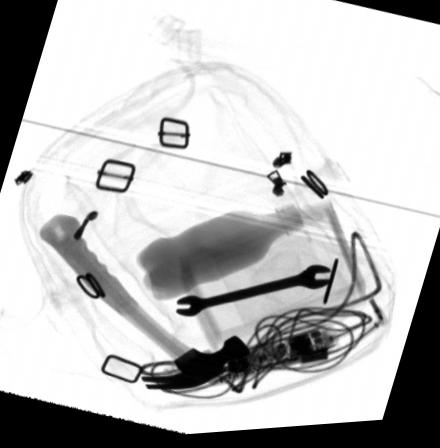Hammer: (37, 213, 249, 393)
Wrench: (175, 270, 331, 320)
